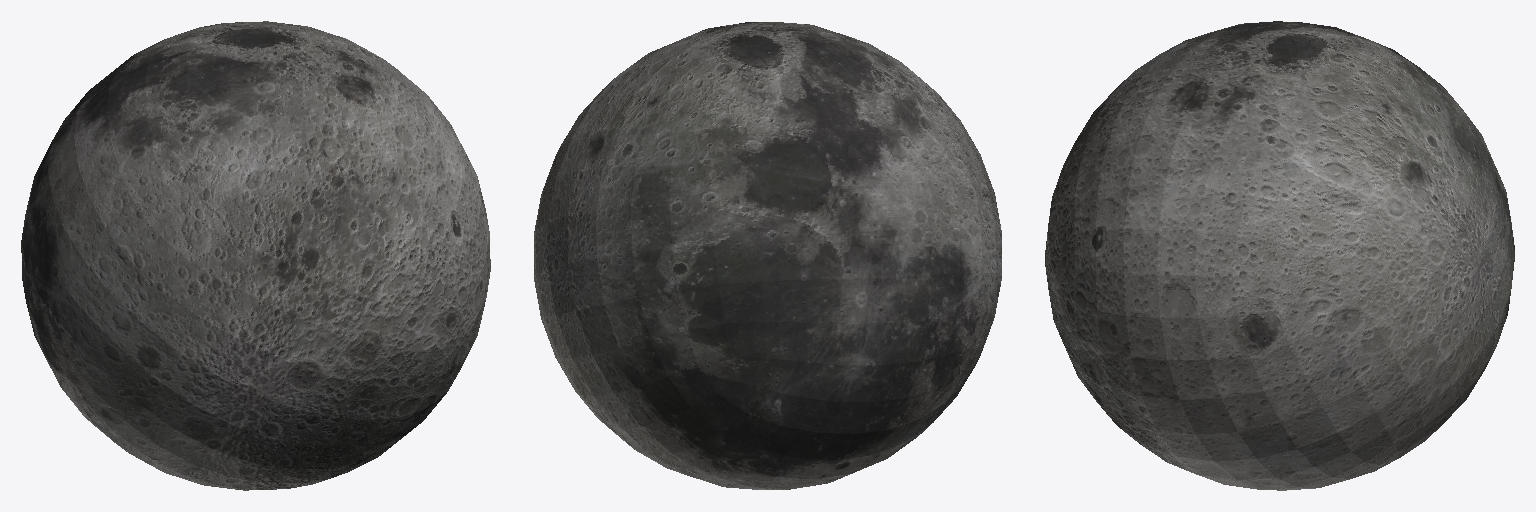
3 views of the same model, side by side, from view 1: azimuth 30°, elevation 25°; view 2: azimuth 150°, elevation 25°; view 3: azimuth 270°, elevation 25° (orthographic).
Parts seen in each view (by area): view 1: Moon_Cube.002; view 2: Moon_Cube.002; view 3: Moon_Cube.002.
Part boxes in pixels (bbox=[...]): Moon_Cube.002: bbox=[21, 21, 490, 490]; Moon_Cube.002: bbox=[534, 22, 1001, 489]; Moon_Cube.002: bbox=[1045, 21, 1514, 490].
Bounding box in the file's own units: 3.48 × 3.48 × 3.49.
Materials: 1 (1 with a texture image).